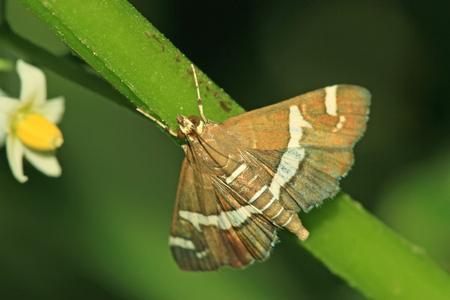Crambidae: (136, 66, 371, 273)
